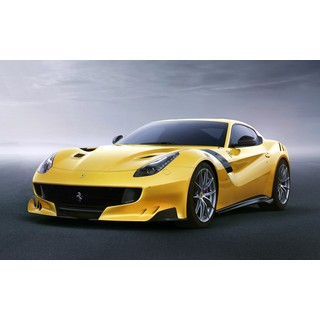car: (24, 116, 291, 230)
